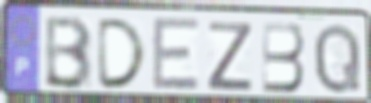B: (42, 14, 95, 92), (260, 20, 307, 95)
D: (95, 17, 150, 91)
E: (150, 15, 202, 95)
Q: (312, 21, 363, 97)
Z: (205, 19, 254, 93)
